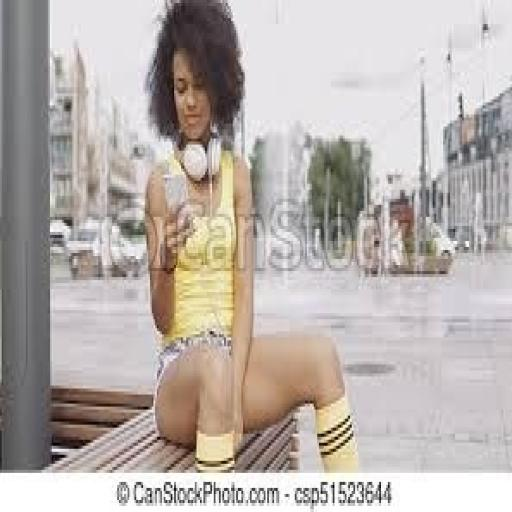texting: (140, 0, 360, 473)
